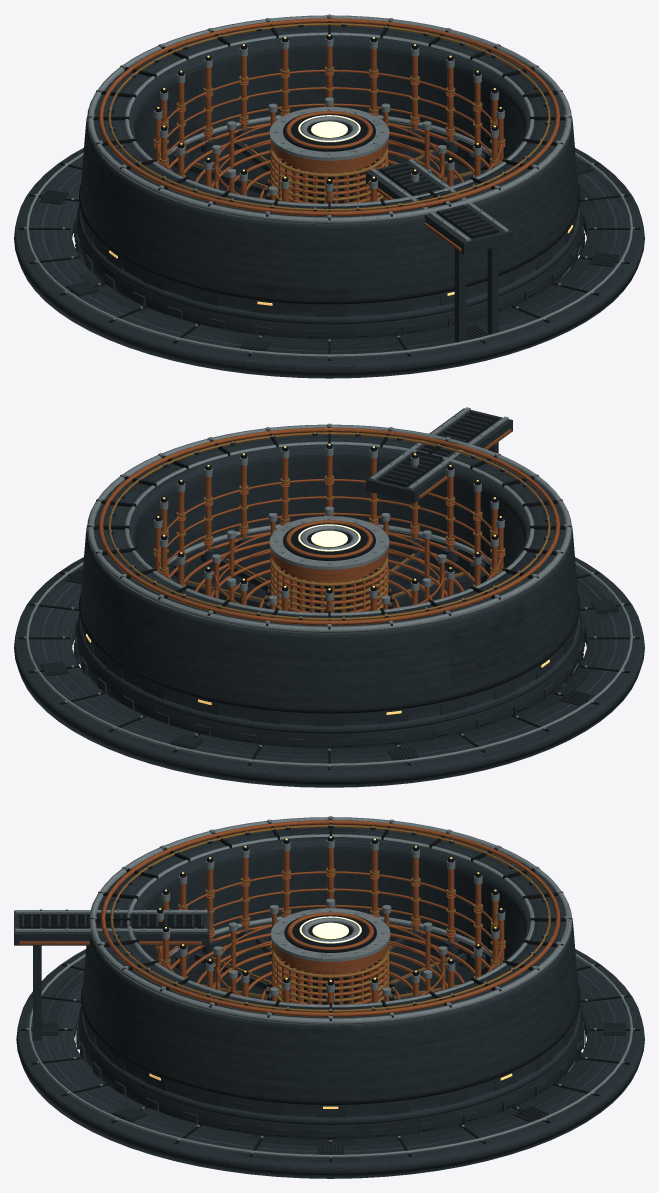
Rendered from signal-array-pilot-v3.glb.
3 renders of one model, top to bottom at view 1: azimuth 30°, elevation 25°; view 2: azimuth 150°, elevation 25°; view 3: azimuth 270°, elevation 25°, orthographic.
Visible parts, largest first — view 1: housing, copper, steel, seam, brass, cavity, coreLight; view 2: housing, copper, steel, seam, brass, cavity, coreLight; view 3: housing, copper, steel, seam, brass, cavity, coreLight.
Boxes of the visible parts, x1,y1,x2,y2 form: housing: [14, 25, 644, 378]; copper: [98, 18, 560, 251]; steel: [24, 14, 634, 357]; seam: [18, 17, 640, 360]; brass: [108, 23, 550, 211]; cavity: [39, 146, 619, 351]; coreLight: [298, 115, 360, 141]; housing: [14, 408, 644, 787]; copper: [98, 427, 560, 625]; steel: [24, 407, 634, 766]; seam: [18, 411, 640, 769]; brass: [108, 432, 550, 620]; cavity: [39, 555, 619, 760]; coreLight: [298, 524, 360, 551]; housing: [14, 827, 644, 1178]; copper: [19, 820, 560, 1017]; steel: [15, 816, 634, 1157]; seam: [19, 819, 640, 1161]; brass: [110, 824, 550, 1012]; cavity: [41, 949, 625, 1154]; coreLight: [299, 916, 361, 943].
Size of the model in its own units: 6.6 by 1.69 by 6.62.
8 materials, 6 textured.
